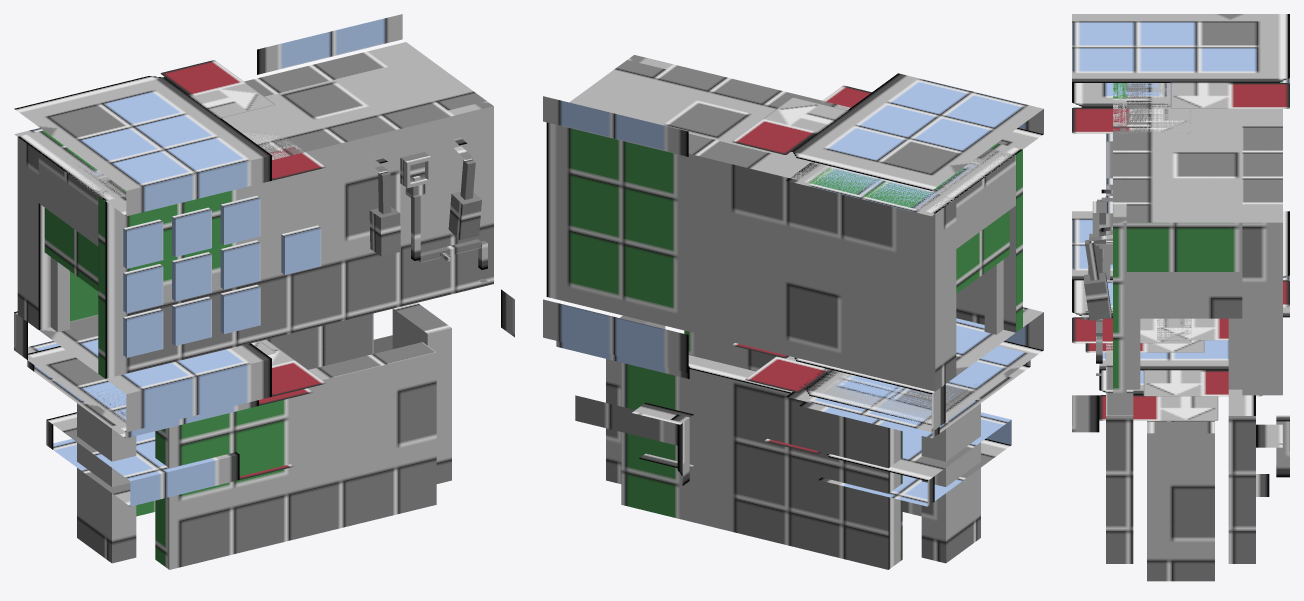
Rendered from assembler.obj.
The picture shows the model from 3 angles, left to right: view 1: azimuth 30°, elevation 25°; view 2: azimuth 150°, elevation 25°; view 3: azimuth 270°, elevation 25°; orthographic projection. The views are drawn at different scales.
Parts seen in each view (by area): view 1: upbase n1, base n1, toit, upbase n3, Socle, upbase n2, poutre, base n2, sous socle, base n4, base n3, upbase n4 (+14 smaller); view 2: upbase n2, base n3, toit, Socle, upbase n3, sous socle, poutre, base n2, upbase n1, upbase n4, base n1, base n4 (+3 smaller); view 3: toit, upbase n3, upbase n2, base n4, poutre, Socle, upbase n4, base n1, base n3, upbase n1, sous socle, upbase n5 (+7 smaller).
Part boxes in pixels (x1=…): upbase n1: x1=98, y1=101, x2=493, y2=378; base n1: x1=155, y1=342, x2=436, y2=569; toit: x1=14, y1=14, x2=402, y2=216; upbase n3: x1=38, y1=57, x2=486, y2=246; Socle: x1=14, y1=289, x2=514, y2=432; upbase n2: x1=17, y1=42, x2=426, y2=329; poutre: x1=46, y1=335, x2=392, y2=506; base n2: x1=77, y1=403, x2=136, y2=563; sous socle: x1=27, y1=341, x2=312, y2=438; base n4: x1=392, y1=302, x2=451, y2=483; base n3: x1=136, y1=313, x2=373, y2=516; upbase n4: x1=44, y1=208, x2=98, y2=291; upbase n2: x1=546, y1=122, x2=956, y2=391; base n3: x1=621, y1=355, x2=902, y2=569; toit: x1=543, y1=73, x2=1043, y2=216; Socle: x1=543, y1=299, x2=1043, y2=432; upbase n3: x1=569, y1=60, x2=1015, y2=248; sous socle: x1=556, y1=341, x2=1030, y2=438; poutre: x1=575, y1=395, x2=1011, y2=506; base n2: x1=921, y1=403, x2=980, y2=563; upbase n1: x1=627, y1=55, x2=1022, y2=332; upbase n4: x1=956, y1=210, x2=1009, y2=293; base n1: x1=684, y1=330, x2=921, y2=516; base n4: x1=606, y1=315, x2=665, y2=483; toit: x1=1072, y1=14, x2=1289, y2=133; upbase n3: x1=1126, y1=83, x2=1242, y2=271; upbase n2: x1=1242, y1=81, x2=1282, y2=395; base n4: x1=1147, y1=421, x2=1214, y2=581; poutre: x1=1099, y1=340, x2=1262, y2=420; Socle: x1=1072, y1=211, x2=1289, y2=432; upbase n4: x1=1126, y1=272, x2=1242, y2=318; base n1: x1=1106, y1=343, x2=1133, y2=563; base n3: x1=1228, y1=389, x2=1255, y2=563; upbase n1: x1=1113, y1=83, x2=1126, y2=395; sous socle: x1=1085, y1=282, x2=1228, y2=352; upbase n5: x1=1228, y1=318, x2=1242, y2=389.
Size of the model in its own units: 2 by 2 by 1.
